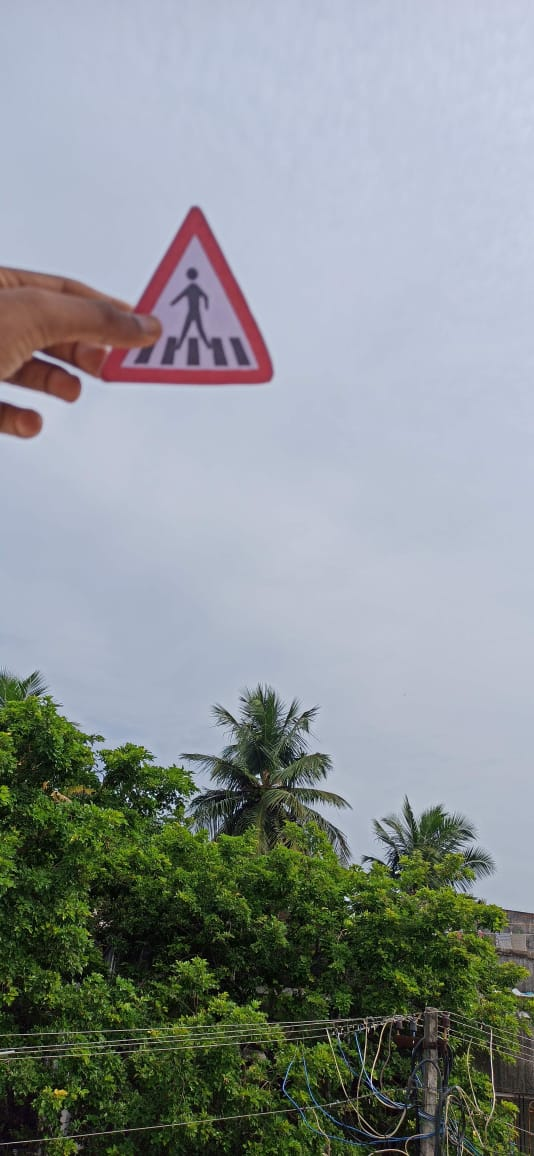PEDESTRIAN CROSSING: (87, 190, 281, 393)
